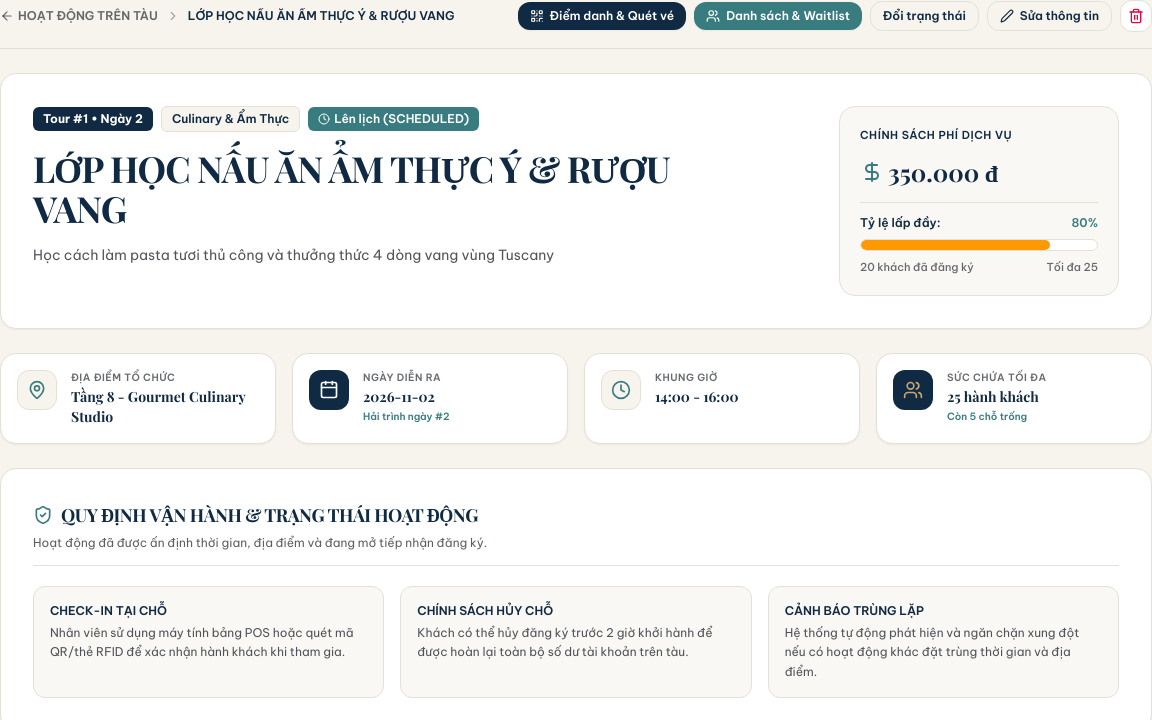
Test: ActivityDetailPage Component Tests (KAN-141) › opens ActivityStatusModal when clicking "Đổi trạng thái"
Click the button "Đổi trạng thái".
click(924, 16)  # box [870,1,979,31]
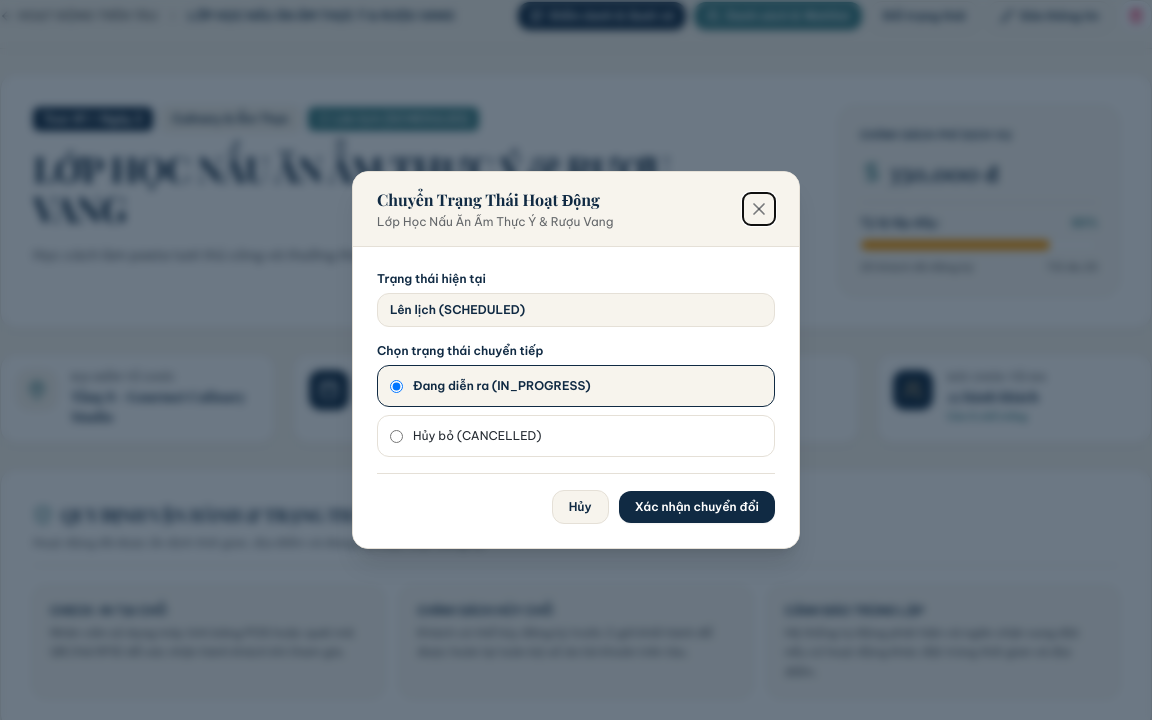
Check: the heading "Chuyển Trạng Thái Hoạt Động" is shown, box [377,188,613,212]
